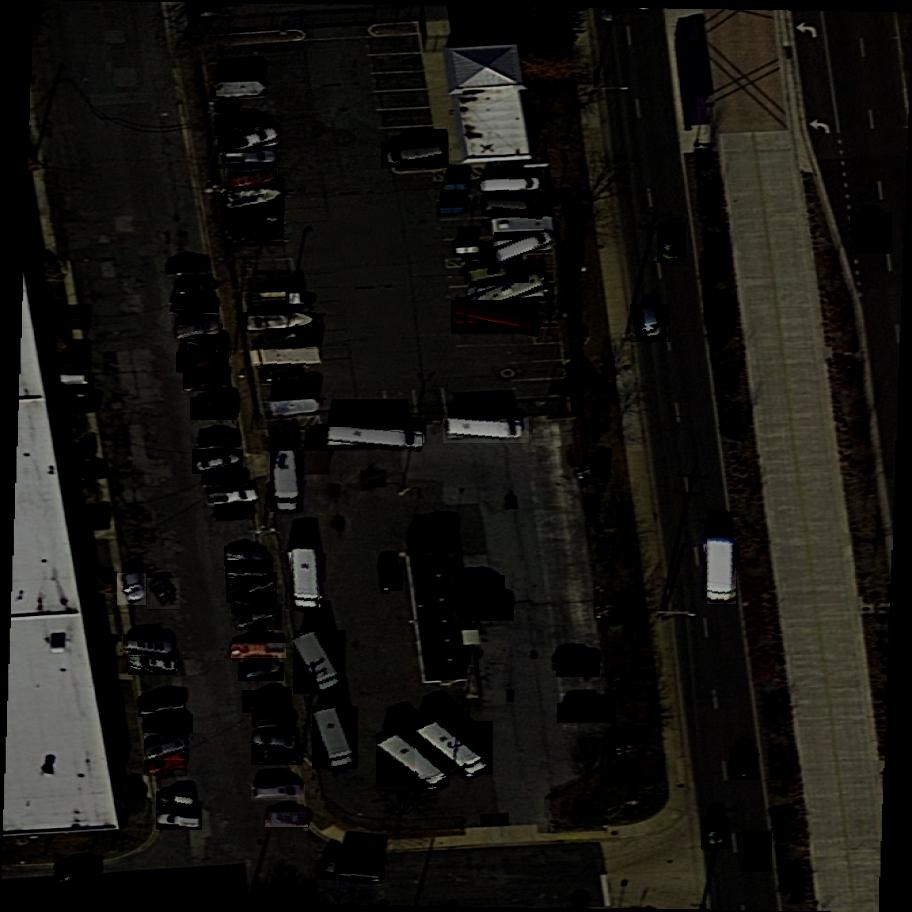large-vehicle: (415, 715, 495, 782), (377, 727, 453, 791), (294, 628, 347, 697), (312, 706, 358, 774), (326, 428, 423, 450), (270, 450, 303, 512), (707, 538, 736, 604), (292, 548, 319, 612), (315, 860, 385, 881)
ship: (224, 187, 287, 211), (244, 313, 316, 333)
small-vehicle: (467, 271, 547, 314), (449, 301, 541, 334), (442, 419, 530, 445), (494, 229, 555, 266), (850, 210, 893, 256), (228, 215, 285, 248), (381, 142, 450, 169), (221, 127, 282, 157), (630, 302, 670, 347), (227, 573, 277, 605), (464, 261, 529, 285), (53, 853, 103, 884), (460, 594, 515, 622), (179, 333, 231, 359), (225, 167, 279, 192), (192, 449, 243, 475), (213, 116, 276, 137), (742, 832, 774, 873), (172, 317, 223, 342), (243, 690, 294, 715), (235, 605, 282, 632), (248, 349, 322, 366), (453, 575, 505, 599), (127, 651, 179, 675), (558, 703, 617, 724), (553, 654, 603, 678), (250, 731, 302, 754), (177, 352, 231, 374), (145, 750, 188, 777), (147, 578, 180, 613), (188, 398, 238, 421), (701, 814, 731, 852), (478, 176, 541, 194), (145, 736, 189, 761), (658, 223, 685, 263), (117, 571, 147, 607), (122, 637, 176, 657), (139, 696, 188, 718), (481, 200, 543, 217), (730, 748, 761, 782), (207, 488, 259, 508), (143, 714, 194, 734), (238, 663, 284, 685), (231, 593, 279, 614), (228, 208, 284, 225), (184, 372, 230, 392), (156, 813, 202, 833), (252, 784, 306, 801), (224, 563, 274, 581), (225, 150, 277, 167), (251, 748, 303, 765), (231, 644, 286, 659), (156, 792, 199, 811), (223, 547, 268, 565), (173, 300, 219, 315), (380, 562, 403, 592), (265, 812, 309, 827), (203, 475, 244, 485)
